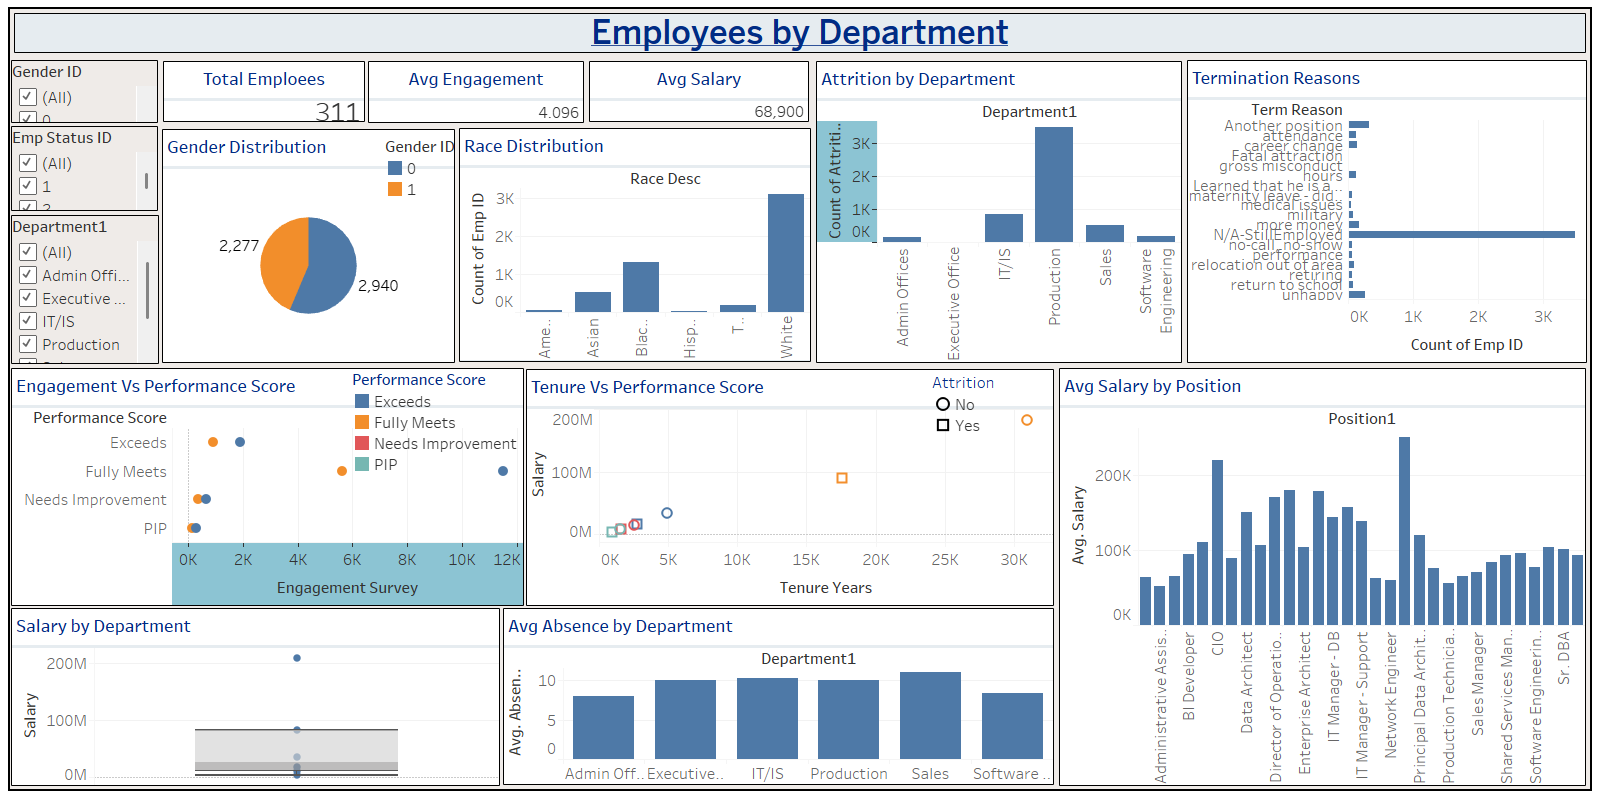

The dashboard page shown, as its layout file describes it:
{"tool":"tableau","page":{"name":"Dashboard 4","canvas":[1600,800],"ordinal":0},"visuals":[{"type":"title","box":[10,10,1580,48]},{"type":"filter","title":"Attrition by Department","param":"[federated.0pqs29b0ohms11168s5fk0zj6uzc].[none:GenderID:ok]","box":[11,61,147,63]},{"type":"worksheet","title":"Termination Reasons","mark":"Automatic","rows":["TermReason"],"cols":["EmpID"],"box":[1187,61,400,303]},{"type":"worksheet","title":"KPI-Total Employees","mark":"Text","box":[163,62,202,61]},{"type":"worksheet","title":"Average Engagement Score","mark":"Automatic","box":[368,62,216,62]},{"type":"worksheet","title":"Average Salary","mark":"Automatic","box":[589,62,220,61]},{"type":"worksheet","title":"Attrition by Department","mark":"Automatic","rows":["Attrition"],"cols":["Department"],"box":[816,62,366,302]},{"type":"filter","title":"Attrition by Department","param":"[federated.0pqs29b0ohms11168s5fk0zj6uzc].[none:EmpStatusID:ok]","box":[11,127,147,85]},{"type":"worksheet","title":"Race Distribution","mark":"Automatic","rows":["EmpID"],"cols":["RaceDesc"],"box":[459,129,352,234]},{"type":"worksheet","title":"Gender Distribution","mark":"Pie","box":[162,130,293,234]},{"type":"legend","title":"Gender Distribution","param":"[federated.0pqs29b0ohms11168s5fk0zj6uzc].[none:GenderID:ok]","box":[385,137,70,66]},{"type":"filter","title":"Attrition by Department","param":"[federated.0pqs29b0ohms11168s5fk0zj6uzc].[none:Department:nk]","box":[11,216,148,149]},{"type":"worksheet","title":"Engagement vs. Performance Score","mark":"Circle","rows":["PerformanceScore"],"cols":["EngagementSurvey"],"box":[11,369,513,238]},{"type":"worksheet","title":"Avg Salary by Position","mark":"Automatic","rows":["Salary"],"cols":["Position"],"box":[1059,369,527,418]},{"type":"legend","title":"Tenure vs. Performance Score","param":"[federated.0pqs29b0ohms11168s5fk0zj6uzc].[none:PerformanceScore:nk]","box":[352,370,170,112]},{"type":"worksheet","title":"Tenure vs. Performance Score","mark":"Automatic","rows":["Salary"],"cols":["Tenure_Years"],"box":[526,370,528,237]},{"type":"legend","title":"Tenure vs. Performance Score","param":"[federated.0pqs29b0ohms11168s5fk0zj6uzc].[none:Attrition:nk]","box":[932,373,119,67]},{"type":"worksheet","title":"Salary by Department","mark":"Circle","rows":["Salary"],"box":[11,609,489,178]},{"type":"worksheet","title":"Avg Absences by Department","mark":"Automatic","rows":["Absences"],"cols":["Department"],"box":[503,609,551,177]},{"type":"legend","title":"Engagement vs. Performance Score","param":"[federated.0pqs29b0ohms11168s5fk0zj6uzc].[none:Attrition:nk]","box":[410,618,164,66]}]}

Visuals, with their boxes in screenshot pixels (x1, y1, x2, y2), scaled from the page's 1600x800 canvas onto the 1598x798 screenshot:
title: (10, 10, 1588, 58)
"Attrition by Department" filter: (11, 61, 158, 124)
"Termination Reasons" worksheet: (1186, 61, 1585, 363)
"KPI-Total Employees" worksheet (Text marks): (163, 62, 365, 123)
"Average Engagement Score" worksheet: (368, 62, 583, 124)
"Average Salary" worksheet: (588, 62, 808, 123)
"Attrition by Department" worksheet: (815, 62, 1181, 363)
"Attrition by Department" filter: (11, 127, 158, 211)
"Race Distribution" worksheet: (458, 129, 810, 362)
"Gender Distribution" worksheet (Pie marks): (162, 130, 454, 363)
"Gender Distribution" legend: (385, 137, 454, 202)
"Attrition by Department" filter: (11, 215, 159, 364)
"Engagement vs. Performance Score" worksheet (Circle marks): (11, 368, 523, 605)
"Avg Salary by Position" worksheet: (1058, 368, 1584, 785)
"Tenure vs. Performance Score" legend: (352, 369, 521, 481)
"Tenure vs. Performance Score" worksheet: (525, 369, 1053, 605)
"Tenure vs. Performance Score" legend: (931, 372, 1050, 439)
"Salary by Department" worksheet (Circle marks): (11, 607, 499, 785)
"Avg Absences by Department" worksheet: (502, 607, 1053, 784)
"Engagement vs. Performance Score" legend: (409, 616, 573, 682)
